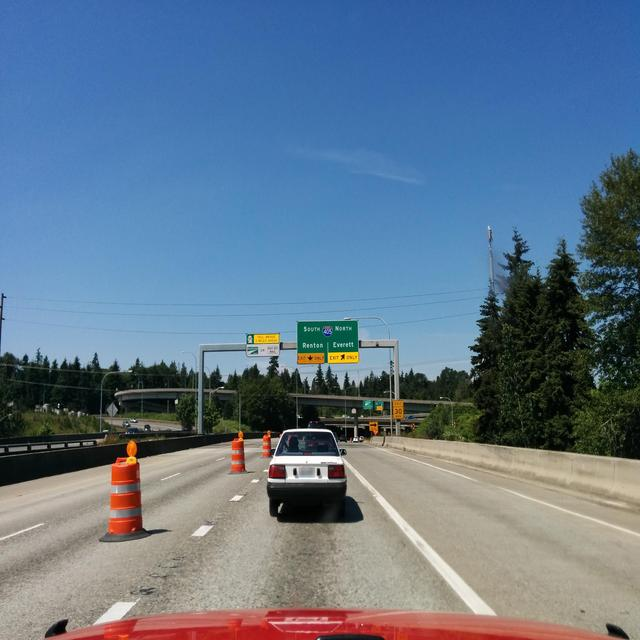Barrier: (370, 436, 639, 514), (0, 432, 238, 486), (243, 432, 281, 438)
Car: (265, 420, 346, 516), (125, 428, 138, 433), (353, 436, 363, 442)
Vegetation: (399, 145, 639, 459), (204, 357, 344, 436), (343, 359, 394, 442)
